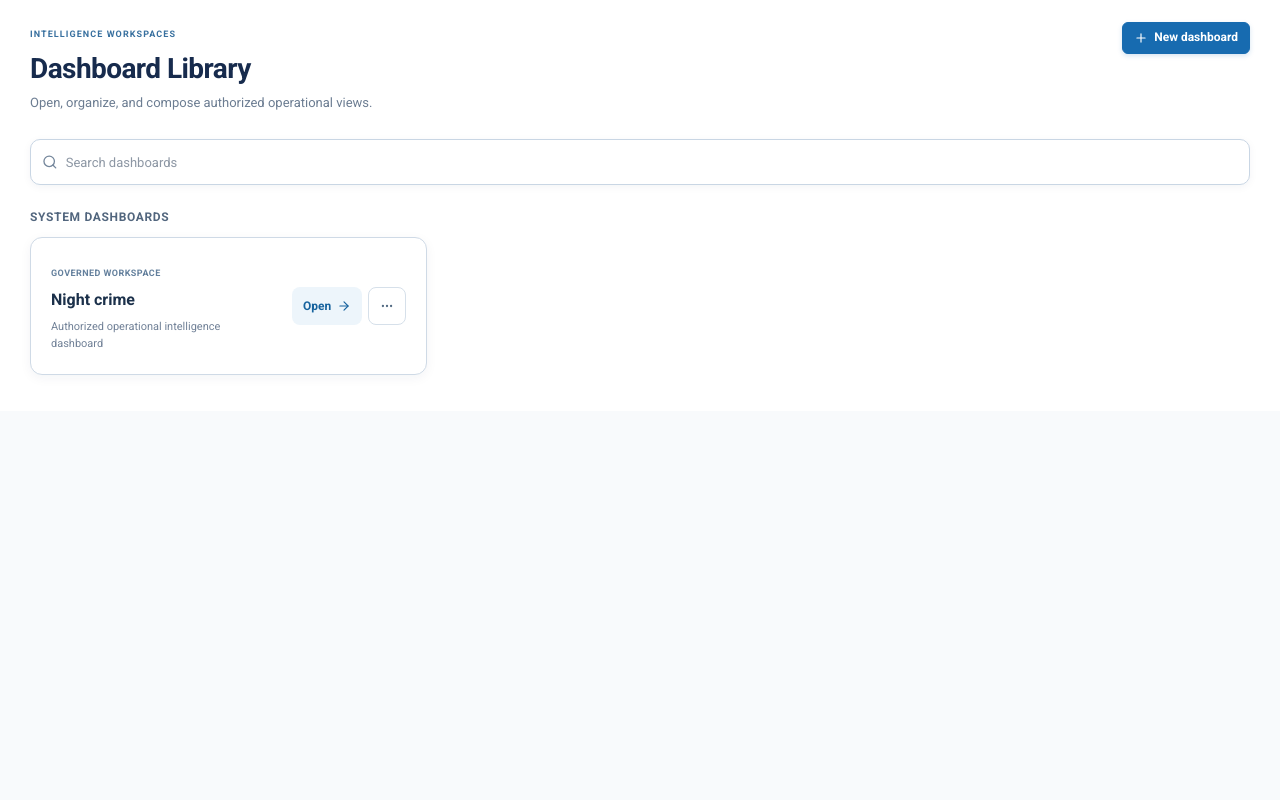
Test case: deletes a dashboard while keeping its reports available
The image size is (1280, 800).
Click the button named "More actions for Night crime".
click(387, 306)  # box [368,287,406,325]
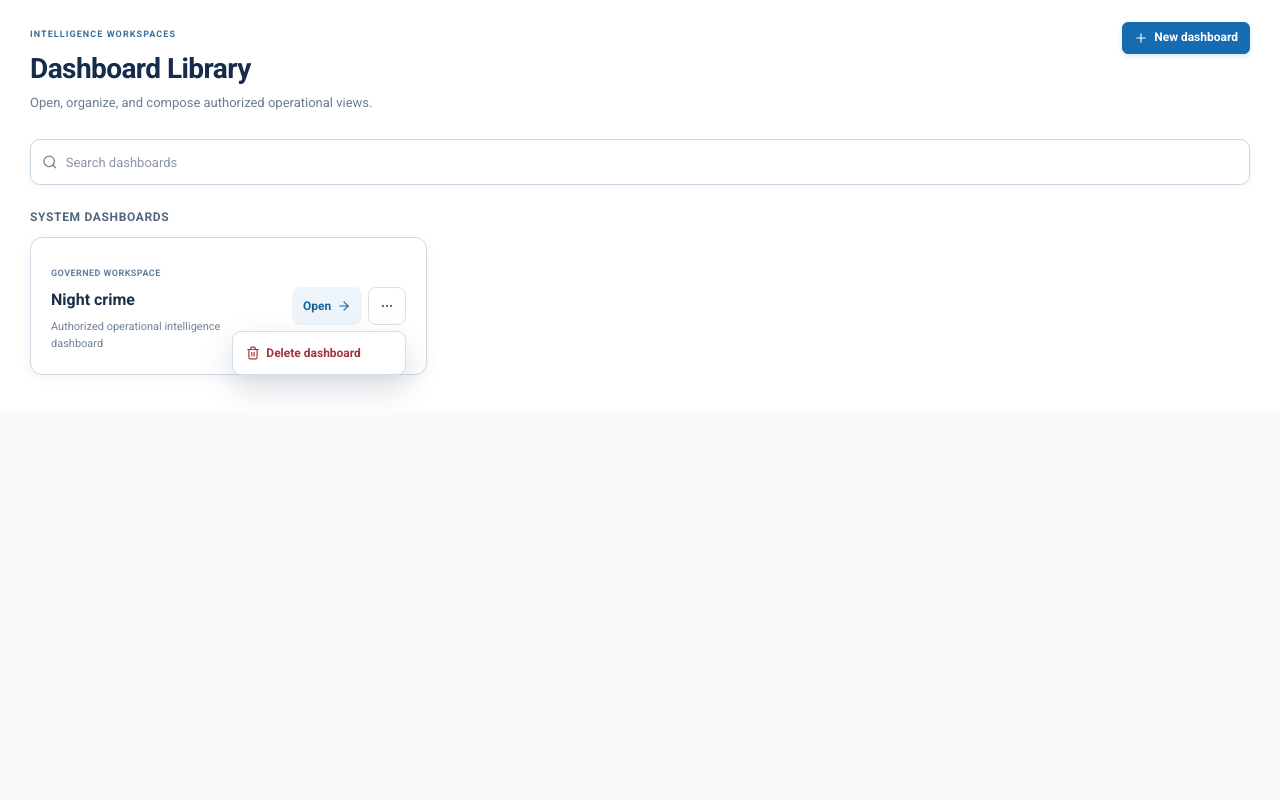
Click the menu item "Delete dashboard".
click(319, 353)  # box [238,337,400,369]
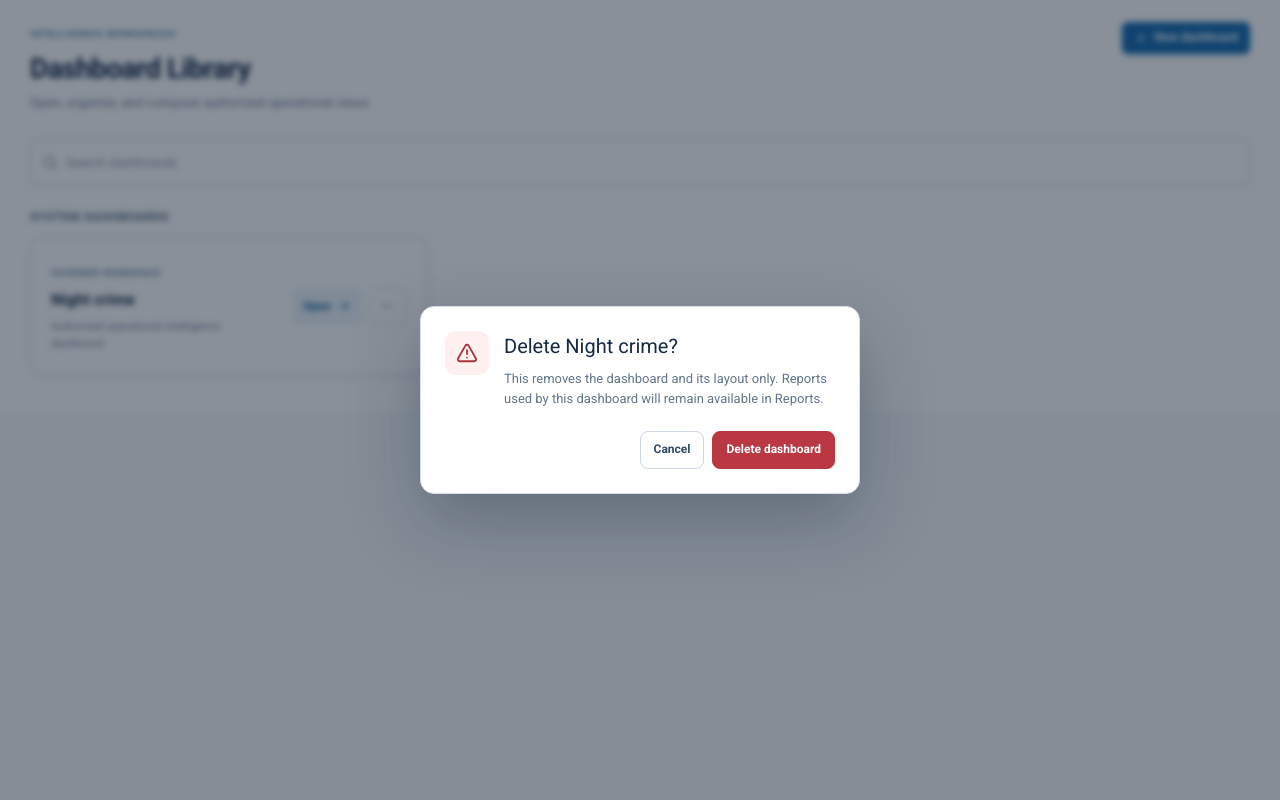
Click the button "Delete dashboard".
click(774, 450)  # box [712,431,835,469]
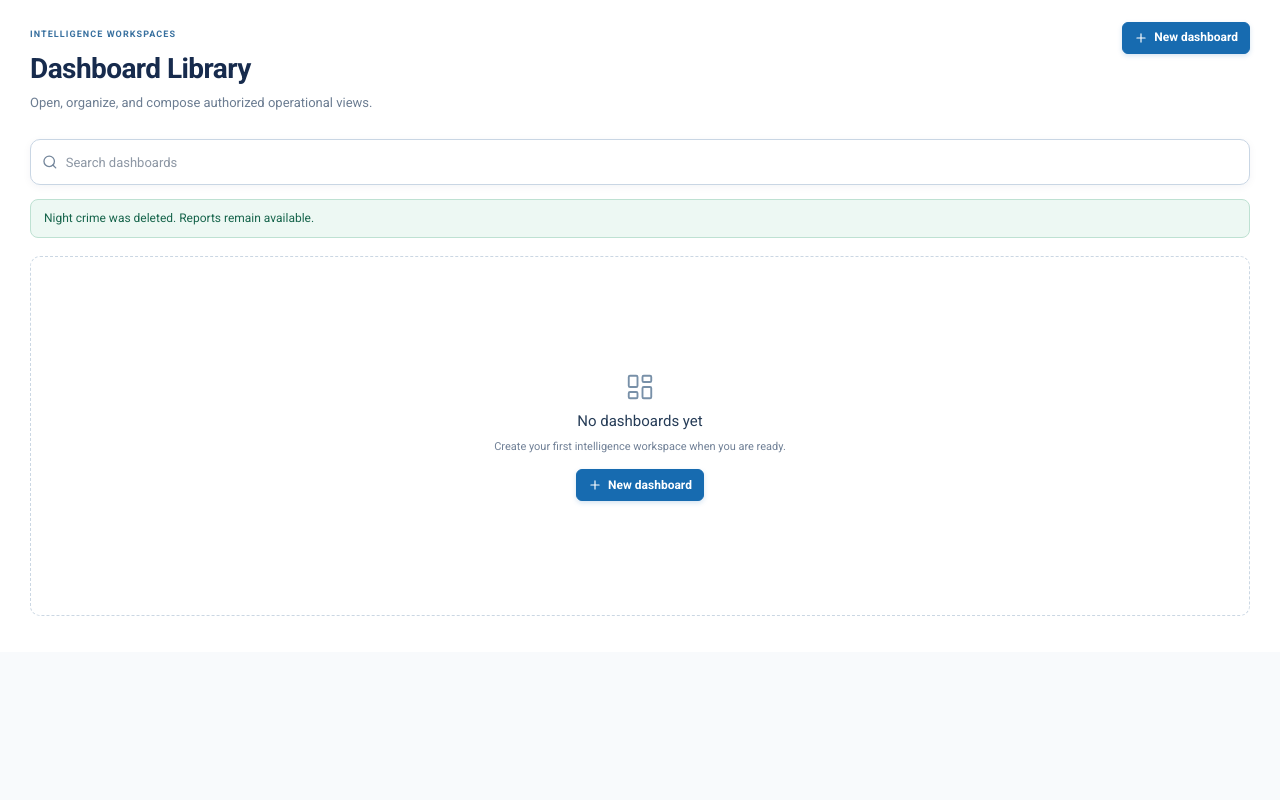
Check: the message reads "Night crime was deleted. Reports remain available.", box [44,211,314,225]
